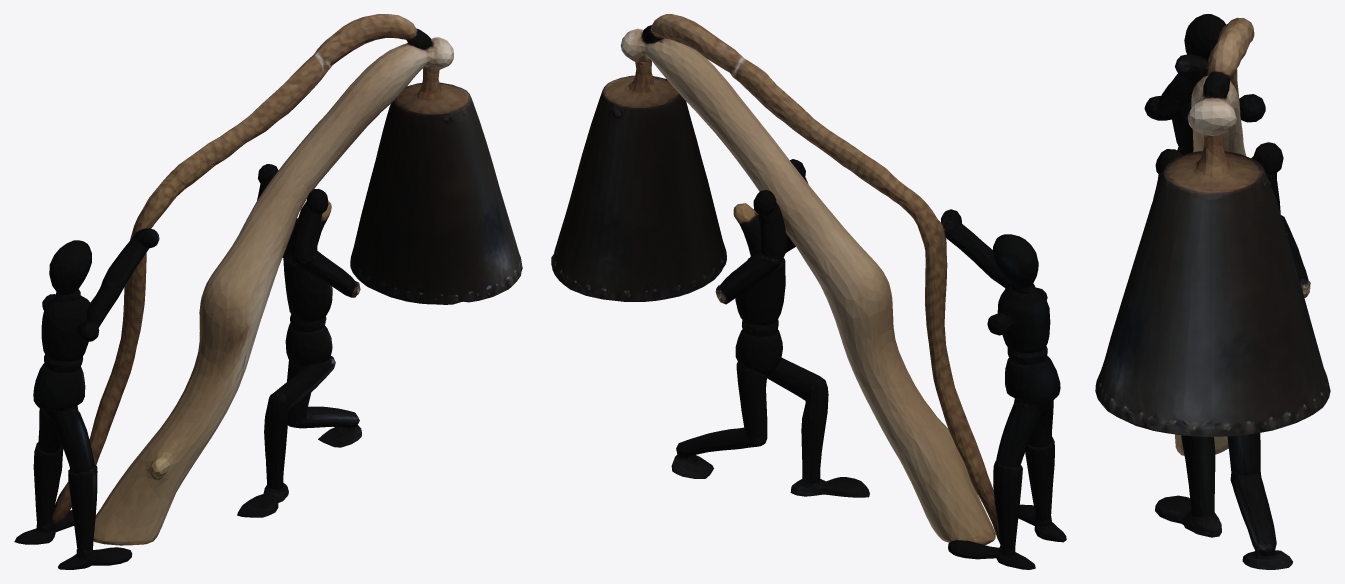
Rendered from lamp_2.glb.
3 renders of one model, left to right at view 1: azimuth 30°, elevation 25°; view 2: azimuth 150°, elevation 25°; view 3: azimuth 270°, elevation 25°, orthographic. The views are drawn at different scales.
Visible parts, largest first — view 1: world; view 2: world; view 3: world.
Part boxes in pixels (bbox=[...]): world: bbox=[14, 14, 522, 569]; world: bbox=[551, 14, 1066, 569]; world: bbox=[1095, 14, 1330, 569].
Size of the model in its own units: 0.9976 by 0.9007 by 0.3301.
Materials: 1 (1 with a texture image).
